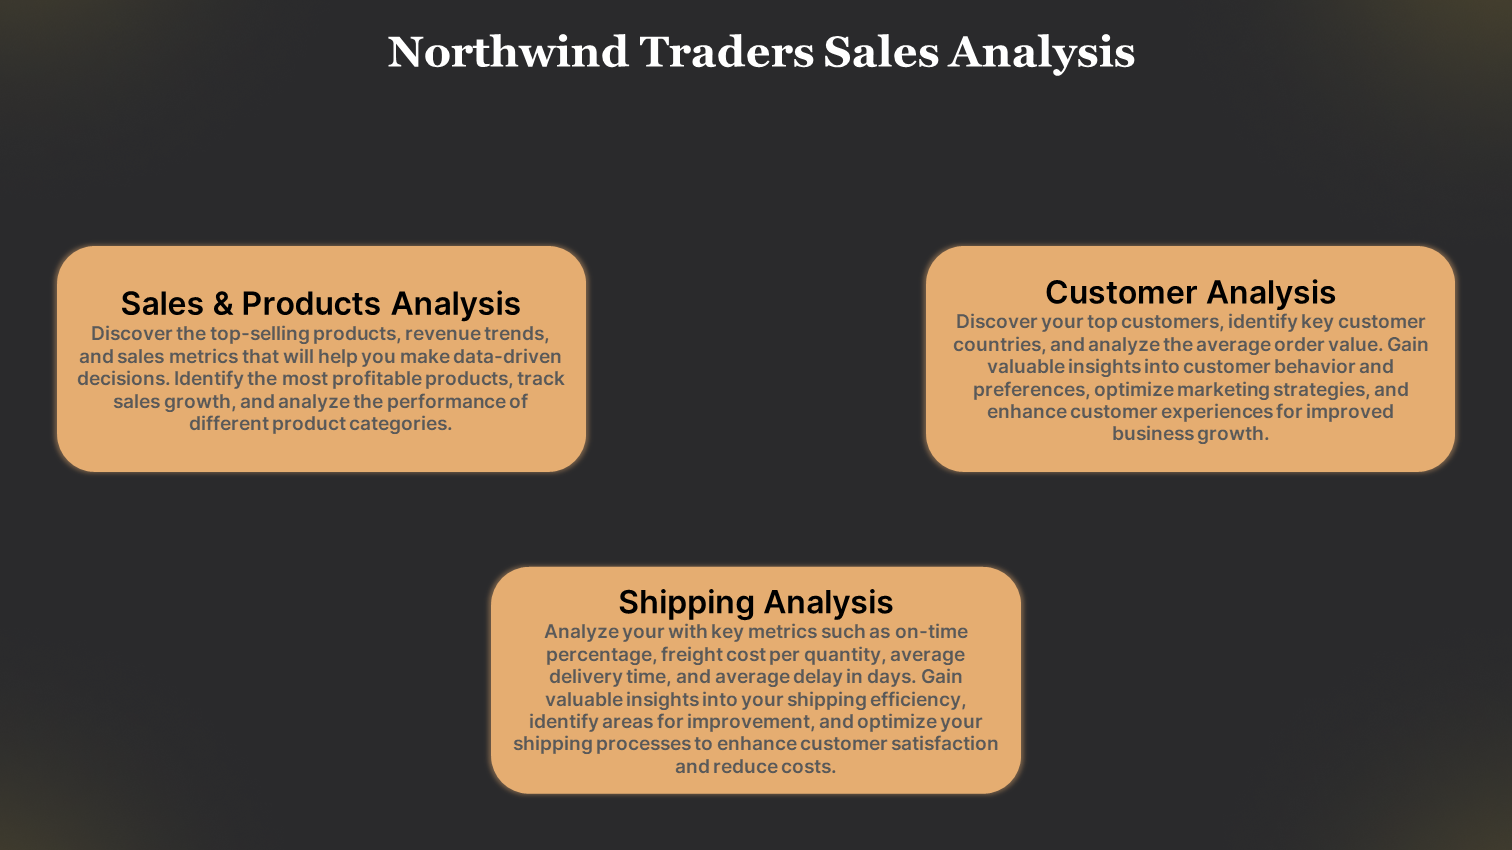

What the dashboard file says about the page in this screenshot:
{"tool":"powerbi","page":{"name":"Home","canvas":[1500,850],"ordinal":0},"visuals":[{"type":"image","box":[0,0,1500,851.4],"z":0},{"type":"image","box":[1148.6,152.9,85.7,85.7],"z":1000},{"type":"image","box":[707.1,472.9,85.7,85.7],"z":2000},{"type":"image","box":[275.7,152.9,85.7,85.7],"z":3000}]}

Visuals, with their boxes in screenshot pixels (x1, y1, x2, y2), scaled from the page's 1500x850 canvas onto the 1512x850 screenshot:
image: rect(0, 0, 1511, 849)
image: rect(1158, 153, 1244, 239)
image: rect(713, 473, 799, 559)
image: rect(278, 153, 364, 239)
